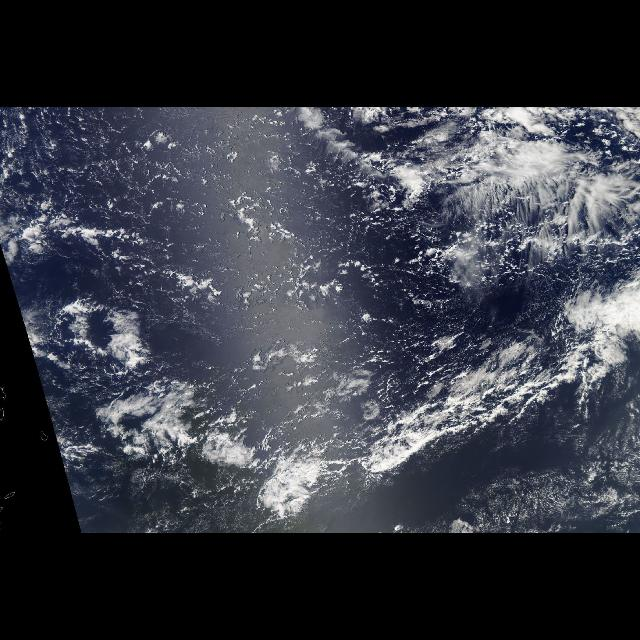Gravel: (75, 114, 363, 314)
Sugar: (21, 111, 544, 371)
